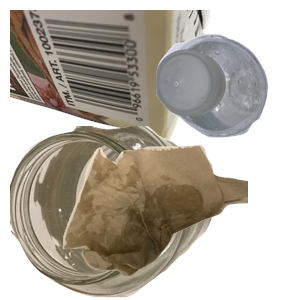cardboard: (10, 10, 213, 146)
glass: (10, 126, 216, 300)
plastic: (153, 31, 300, 161)
trash: (60, 142, 300, 300)
